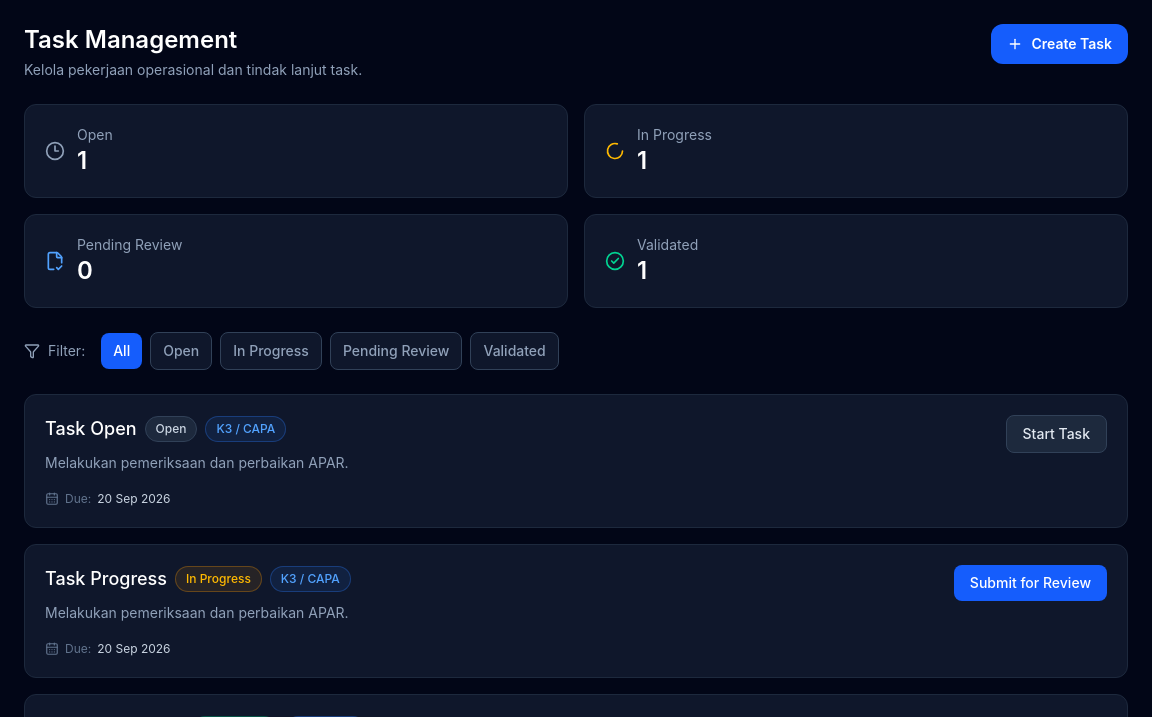
Test: Tasks › filters tasks by status
Expected: the heading "Task Open" is shown, top-left (45, 415), bottom-right (136, 443)
Expected: the heading "Task Progress" is shown, top-left (45, 565), bottom-right (167, 593)
Click the button "Open" at (181,351), box top-left (150, 332), bottom-right (212, 370)
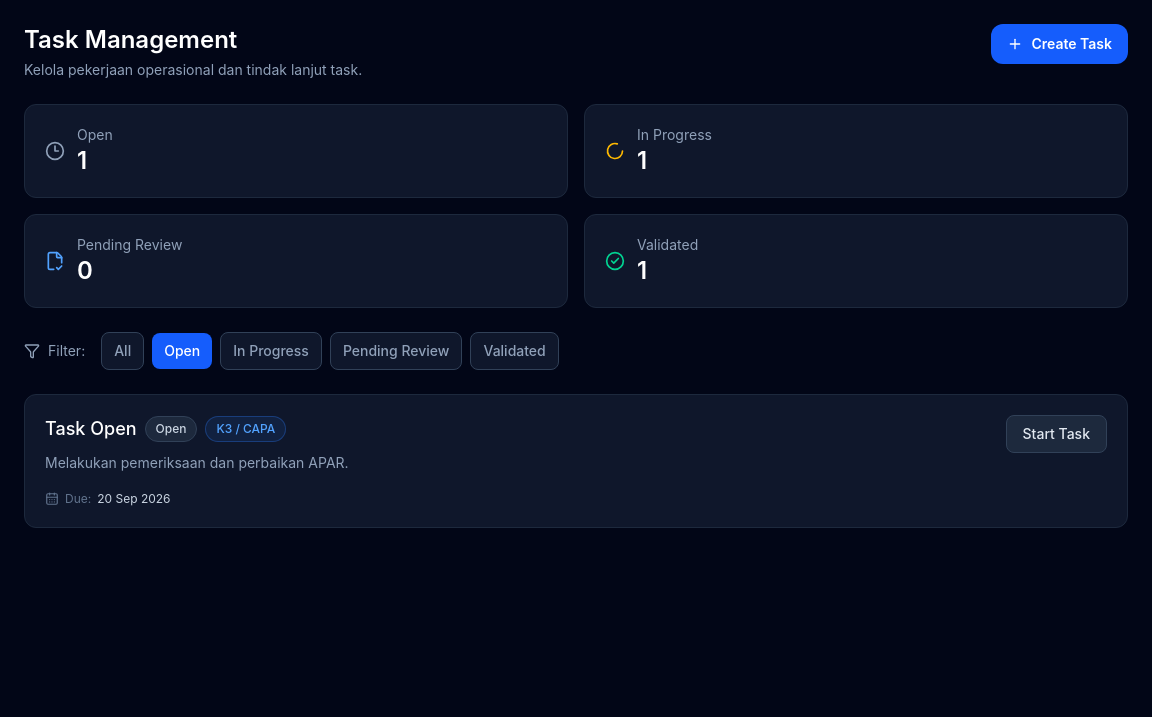
Expected: the heading "Task Open" is shown, top-left (45, 415), bottom-right (136, 443)
Expected: the heading "Task Progress" is gone
